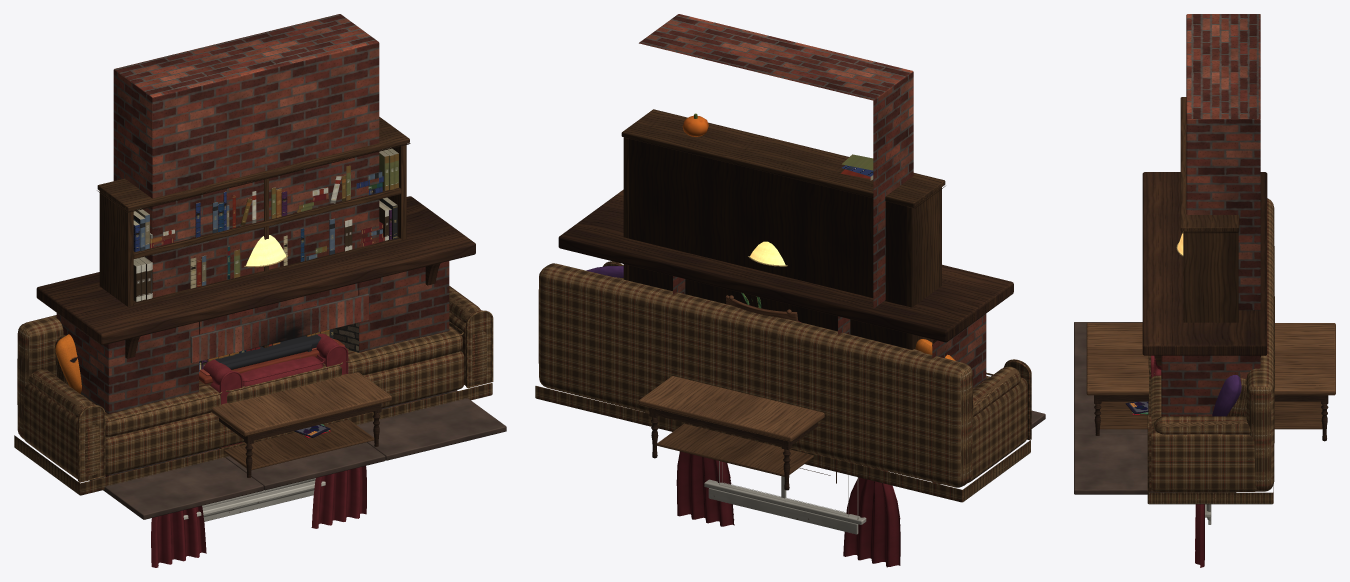
The model's file is props_living.glb.
3 renders of one model, left to right at view 1: azimuth 30°, elevation 25°; view 2: azimuth 150°, elevation 25°; view 3: azimuth 270°, elevation 25°, orthographic. The views are drawn at different scales.
Visible parts, largest first — view 1: Fireplace, Sofa_340, Bookshelf_240, Table_Coffee, Window_110x120, Armchair, CRTTV, FloorLamp, ToyChestLid; view 2: Sofa_340, Bookshelf_240, Fireplace, Table_Coffee, Window_110x120; view 3: Fireplace, Sofa_340, Table_Coffee, Bookshelf_240, Window_110x120.
Part boxes in pixels (<box>): Fireplace: <box>36,14,506,519</box>; Sofa_340: <box>14,286,493,495</box>; Bookshelf_240: <box>97,117,410,371</box>; Table_Coffee: <box>211,372,391,477</box>; Window_110x120: <box>151,466,366,567</box>; Armchair: <box>203,333,348,447</box>; CRTTV: <box>215,334,320,369</box>; FloorLamp: <box>244,235,287,267</box>; ToyChestLid: <box>199,338,344,384</box>; Sofa_340: <box>535,261,1031,502</box>; Bookshelf_240: <box>621,109,945,349</box>; Fireplace: <box>558,14,1045,484</box>; Table_Coffee: <box>639,376,824,490</box>; Window_110x120: <box>676,451,900,567</box>; Fireplace: <box>1074,14,1267,494</box>; Sofa_340: <box>1147,198,1274,504</box>; Table_Coffee: <box>1086,323,1335,441</box>; Bookshelf_240: <box>1180,97,1239,322</box>; Window_110x120: <box>1195,504,1211,567</box>.
Size of the model in its own units: 3.64 by 4 by 2.1.
68 materials, 55 textured.
